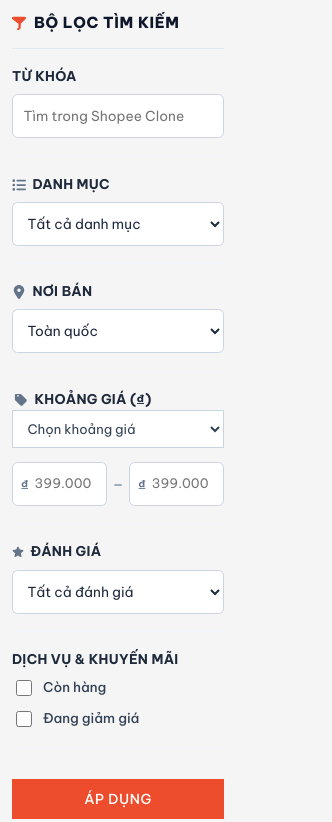
Scenario: catalog components › updates price inputs when choosing a price range preset from the dropdown
This screenshot has width=332, height=822.
Step 1. Select "100.000₫ – 500.000₫ (100k – 500k)" in the dropdown named "Chọn khoảng giá" → (118, 429), box [12,410,224,448]
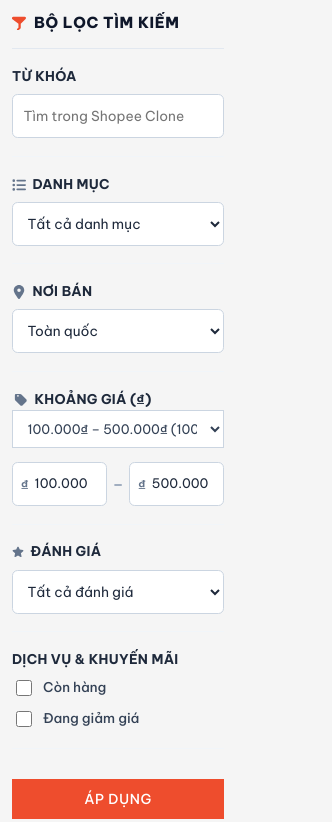
expect the field named "Giá thấp nhất" holds "100.000": met, box [12,462,107,506]
expect the field named "Giá cao nhất" holds "500.000": met, box [129,462,224,506]
Step 2. Select "Trên 10.000.000₫ (Trên 10 triệu)" in the dropdown named "Chọn khoảng giá" → (118, 429), box [12,410,224,448]
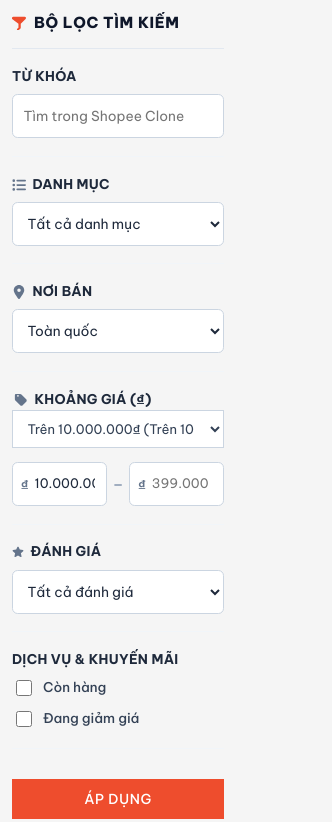
expect the field named "Giá thấp nhất" holds "10.000.000": met, box [12,462,107,506]
expect the field named "Giá cao nhất" is empty: met, box [129,462,224,506]
